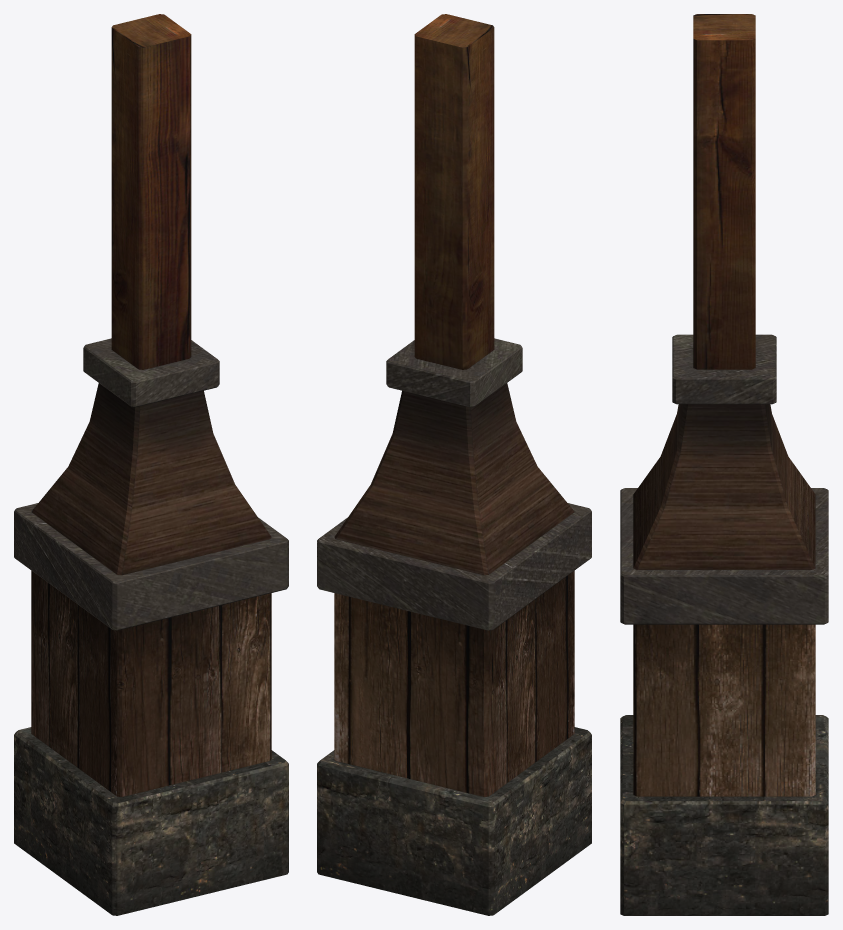
File: Pillar_Wood_Square_002.obj
3 views of the same model, side by side, from view 1: azimuth 30°, elevation 25°; view 2: azimuth 150°, elevation 25°; view 3: azimuth 270°, elevation 25° (orthographic). The views are drawn at different scales.
Parts seen in each view (by area): view 1: Pillar_Wood_Square_013; view 2: Pillar_Wood_Square_013; view 3: Pillar_Wood_Square_013.
Boxes of the visible parts, <box> form: Pillar_Wood_Square_013: <box>14,14,288,915</box>; Pillar_Wood_Square_013: <box>317,14,591,915</box>; Pillar_Wood_Square_013: <box>620,14,828,915</box>.
Size of the model in its own units: 57.07 by 256 by 57.07.
